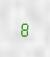eight: (19, 19, 28, 37)
